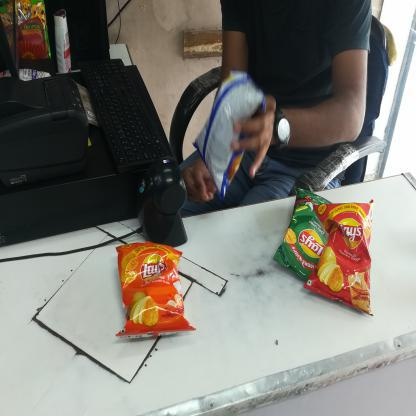chile_limon: (285, 187, 331, 292)
hot_and_sweet: (118, 240, 185, 332)
indian_magic_masala: (201, 76, 264, 212)
tangy_tomato: (317, 205, 374, 316)
